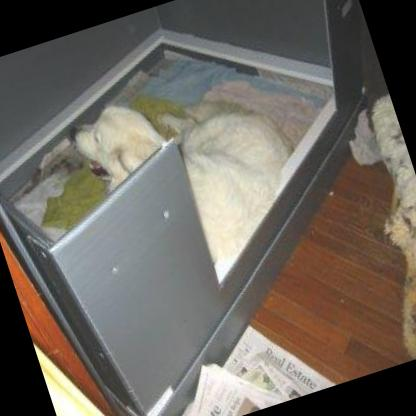Great_Pyrenees: (62, 56, 316, 306)
